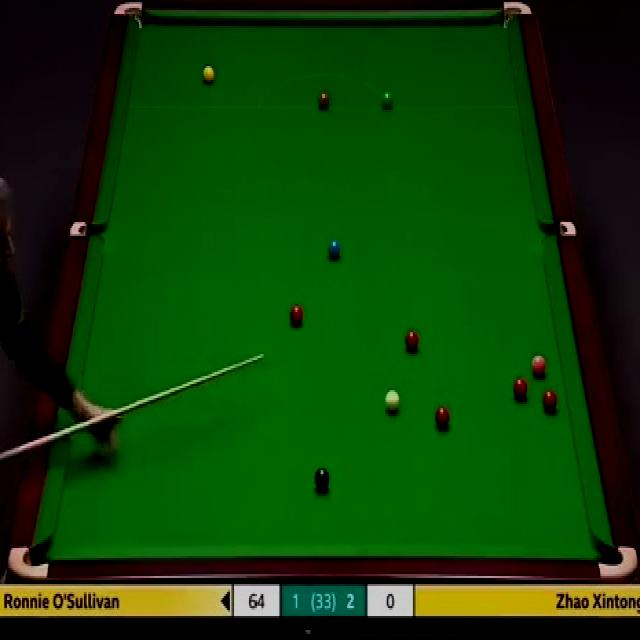black-ball: (314, 465, 330, 490)
blue-ball: (328, 239, 341, 261)
brown-ball: (318, 93, 330, 110)
green-ball: (382, 90, 393, 110)
pink-ball: (531, 353, 548, 378)
red-ball: (433, 405, 451, 430), (405, 327, 420, 352), (513, 378, 528, 399), (290, 304, 303, 327), (544, 391, 557, 413)
white-ball: (383, 389, 401, 417)
yellow-ball: (202, 66, 216, 86)
